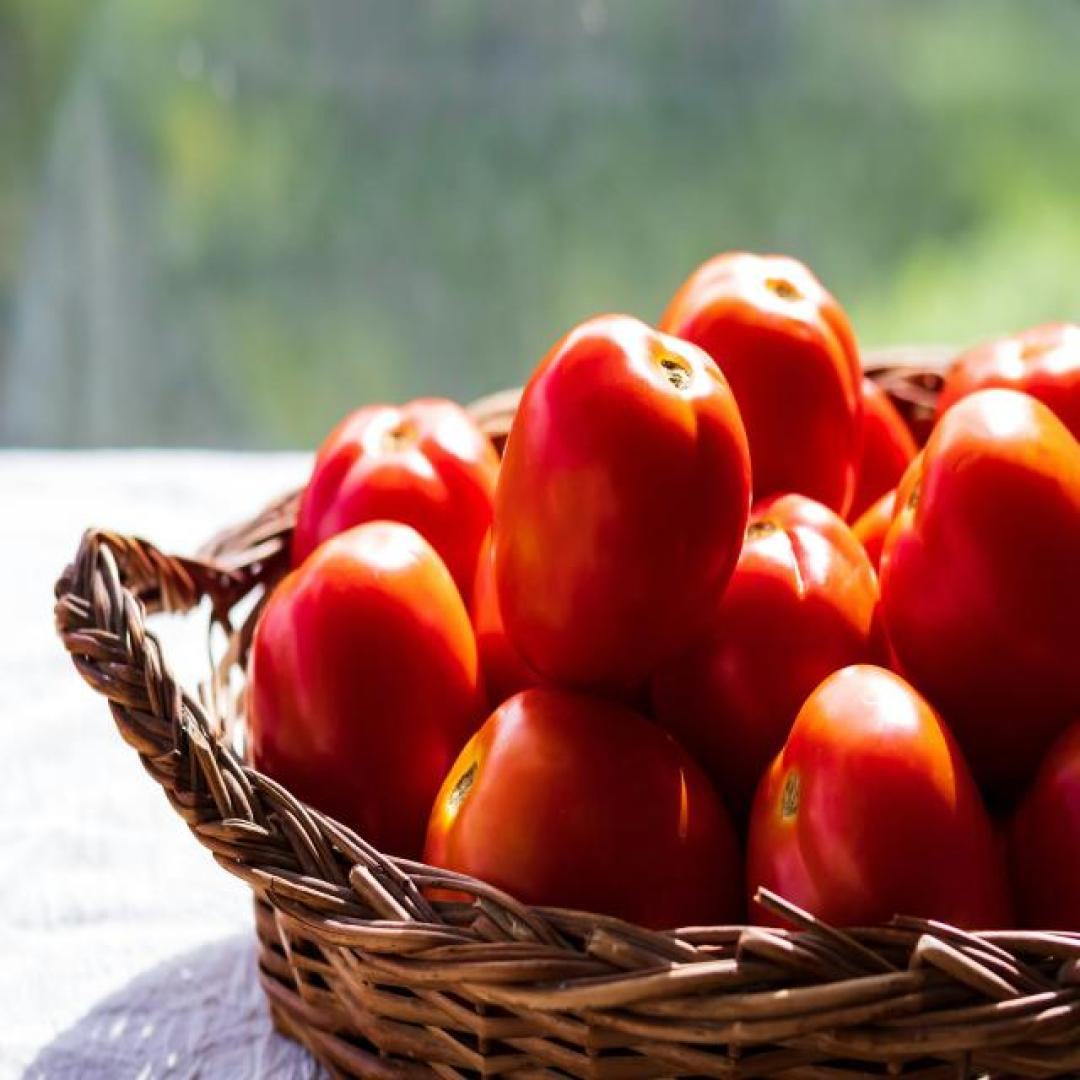matang: (424, 688, 748, 1048), (742, 666, 1026, 1056), (491, 315, 749, 692)
